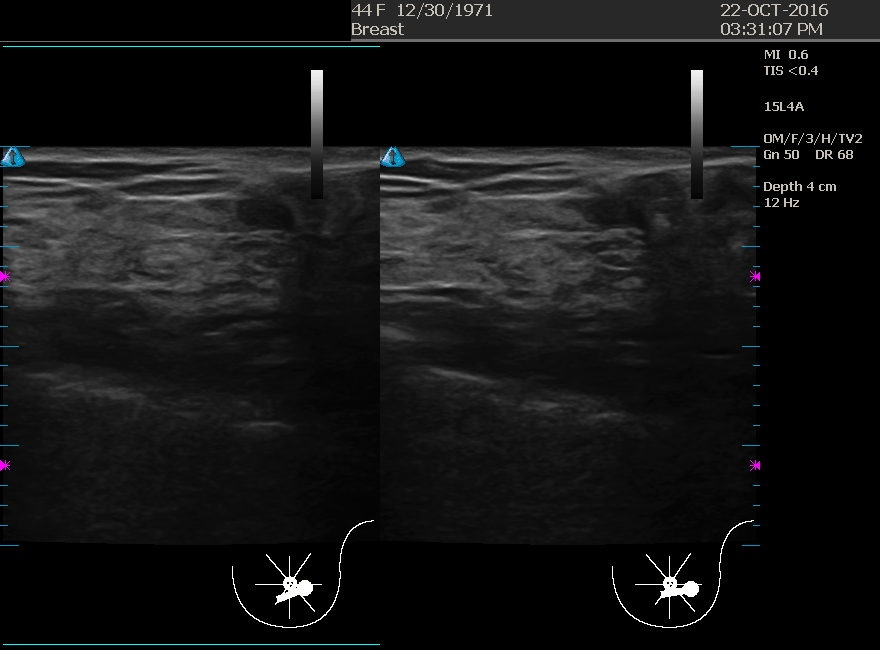BIRADS_2: (104, 184, 305, 385), (487, 151, 687, 351)
